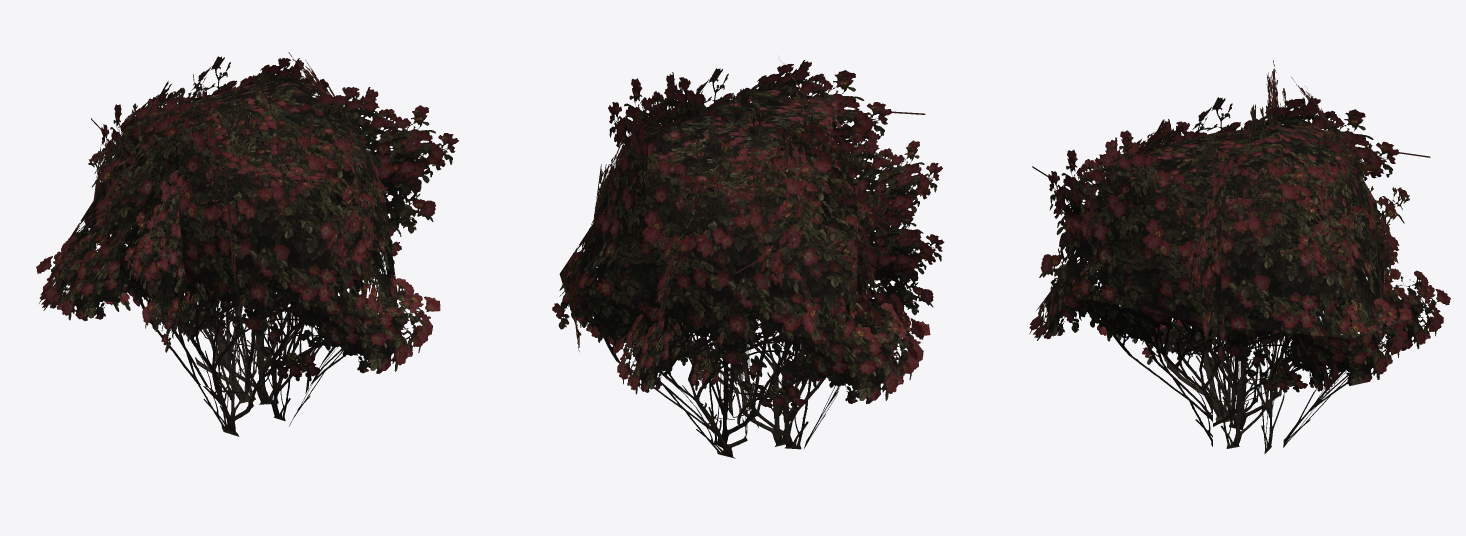
File: fern_2.fbx
3 renders of one model, left to right at view 1: azimuth 30°, elevation 25°; view 2: azimuth 150°, elevation 25°; view 3: azimuth 270°, elevation 25°, orthographic. The views are drawn at different scales.
Parts seen in each view (by area): view 1: fern_2; view 2: fern_2; view 3: fern_2.
Part boxes in pixels (<box>): fern_2: <box>36,52,458,436</box>; fern_2: <box>552,60,944,458</box>; fern_2: <box>1029,60,1450,453</box>.
Size of the model in its own units: 1.38 by 1.44 by 1.22.
